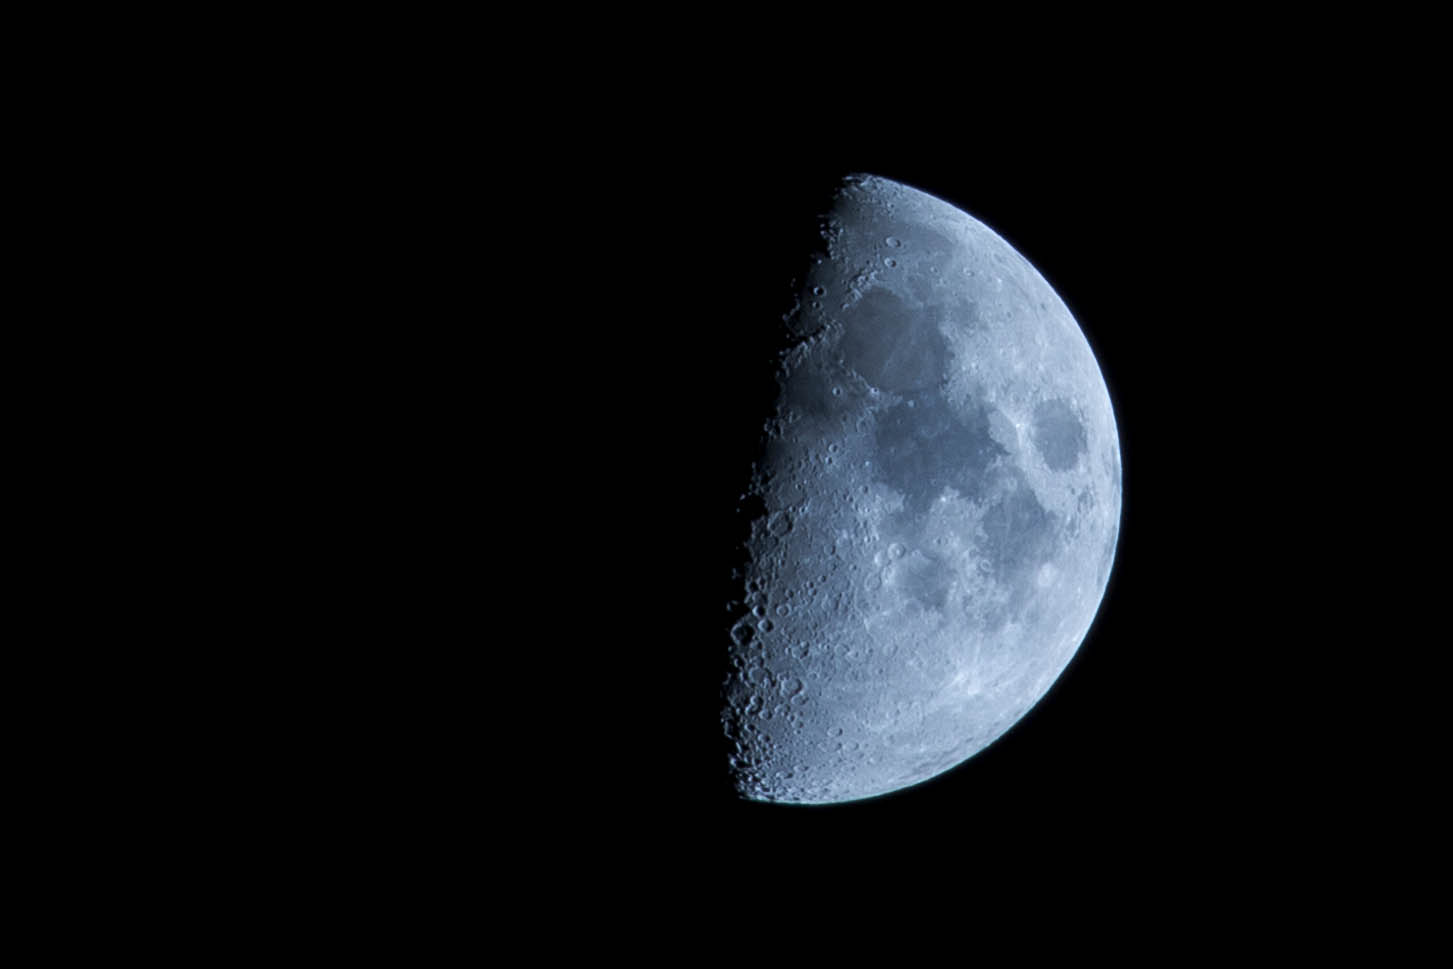crater: (829, 289, 968, 410), (1019, 385, 1094, 482), (897, 587, 927, 628), (765, 508, 798, 542), (726, 620, 759, 652), (885, 537, 915, 568), (881, 229, 912, 257), (777, 675, 809, 703), (809, 274, 834, 302), (819, 717, 847, 740), (757, 615, 778, 637), (885, 254, 905, 277), (775, 603, 794, 624), (817, 569, 832, 590), (782, 585, 798, 603)
